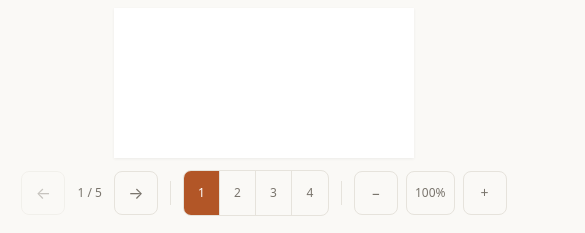
it: showing several pages at a time › does not run off the end, and keeps the last spread full
Click the button named "2 pages at a time" at {"x": 238, "y": 193}, box [220,171,256,215]
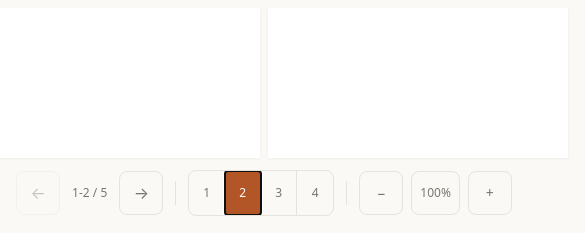
Click the button named "Next page" at {"x": 141, "y": 193}, box [119,171,163,215]
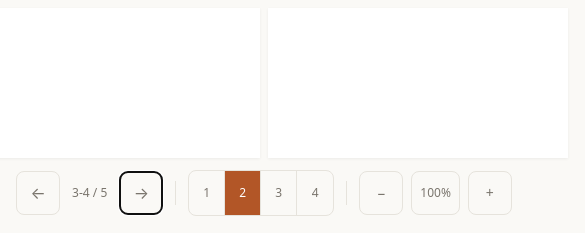
Check: the text "3-4 / 5" is shown, box [72,184,107,201]
Click the button named "Next page" at {"x": 141, "y": 193}, box [119,171,163,215]
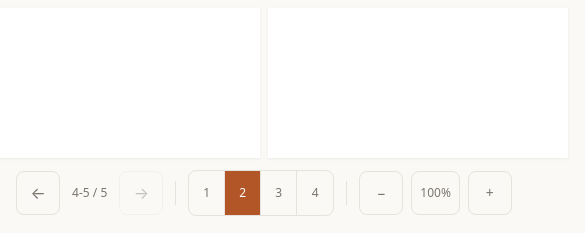
Check: the text "4-5 / 5" is shown, box [72,184,107,201]
Check: the button named "Next page" is disabled, box [119,171,163,215]
